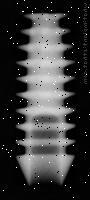Bicon: (13, 10, 78, 187)
